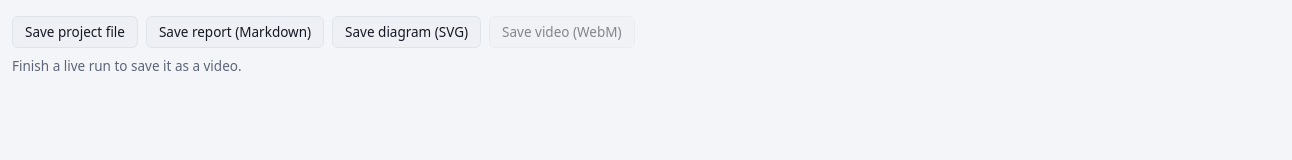
Test: ExportBar › shows the engine's message when saving fails
Click the button "Save diagram (SVG)": (407,32) top-left (332, 16), bottom-right (481, 48)
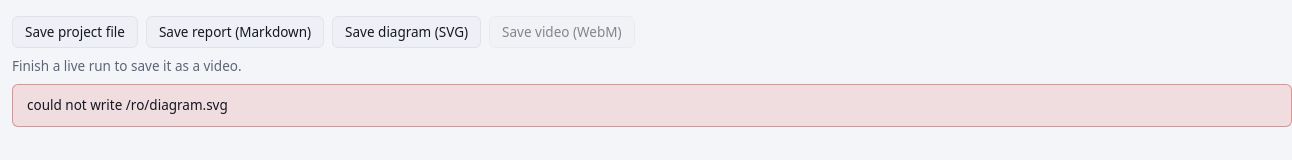
Check: the message reads "could not write /ro/diagram.svg", box top-left (27, 96), bottom-right (228, 114)
